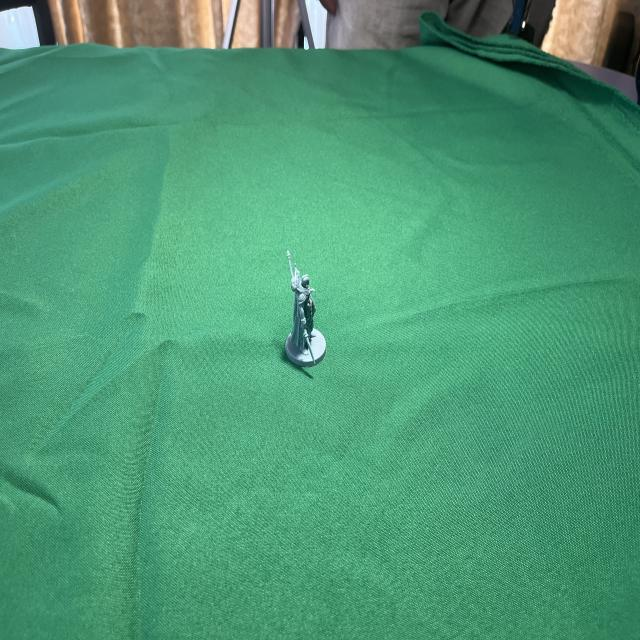isis_follower: (278, 232, 330, 370)
